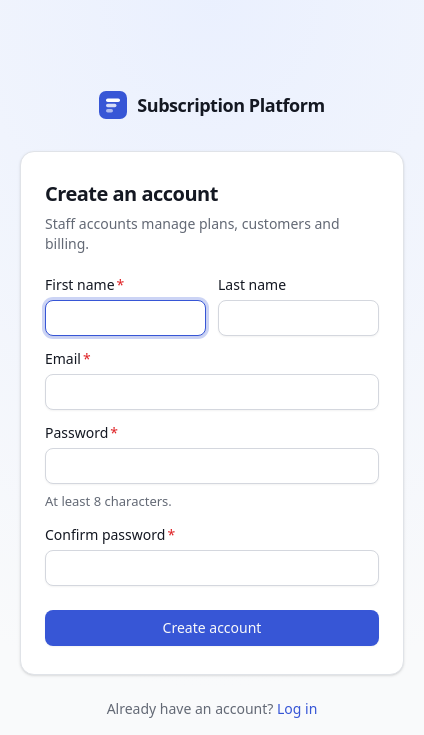
auth › after signup, goes to the login page with the email filled in instead of logging in
Type "Asha" into the field labelled "First name*" at (126, 318), box top-left (45, 300), bottom-right (206, 336)
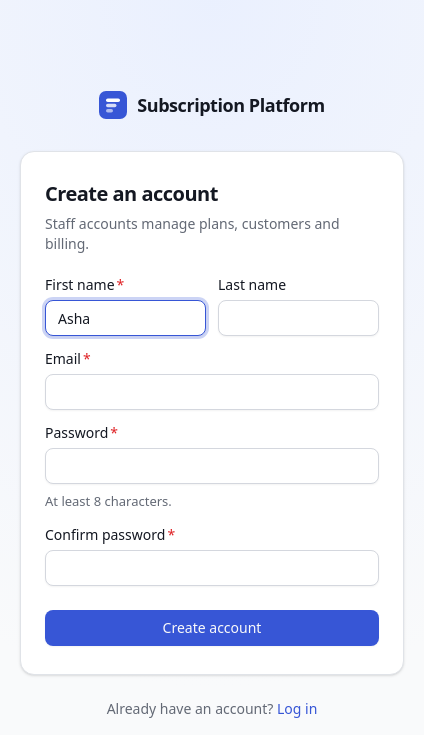
Type "asha@example.com" into the field labelled "Email*" at (212, 392), box top-left (45, 374), bottom-right (379, 410)
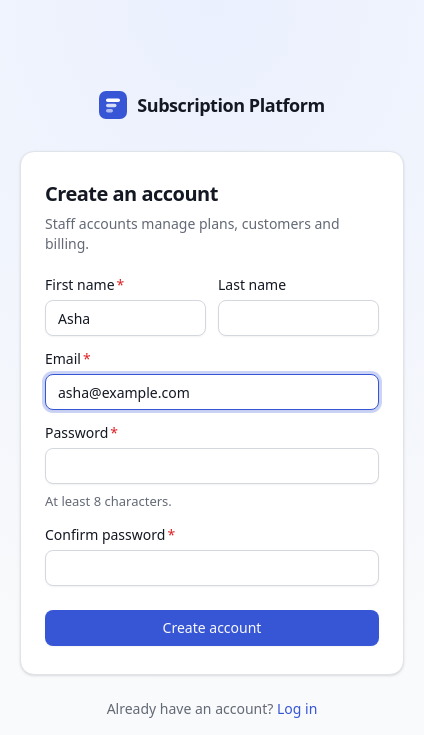
Type "long-enough" into the password field labelled "Password*" at (212, 466), box top-left (45, 448), bottom-right (379, 484)
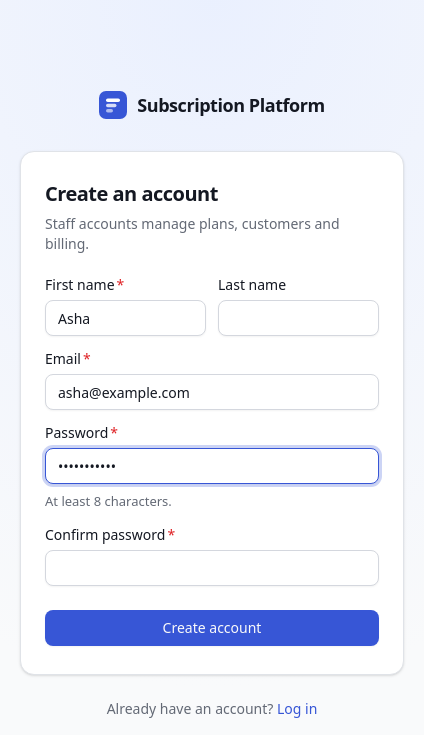
Type "long-enough" into the password field labelled "Confirm password*" at (212, 568), box top-left (45, 550), bottom-right (379, 586)
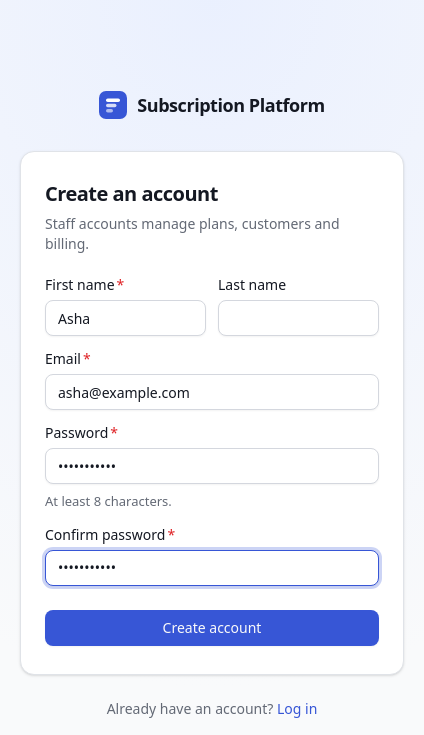
Click the button "Create account" at (212, 628), box top-left (45, 610), bottom-right (379, 646)
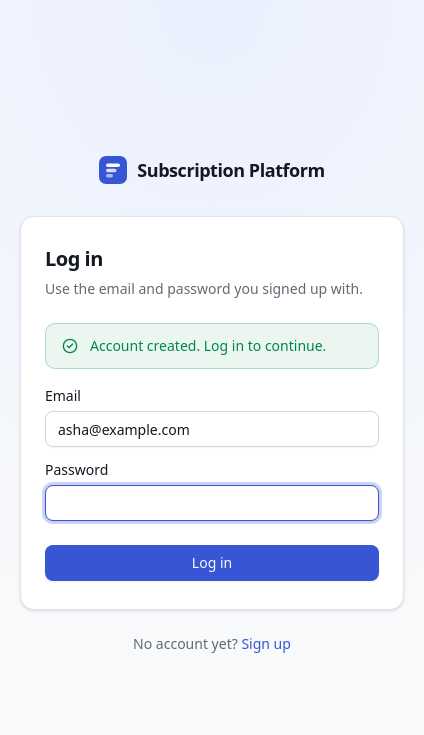
Now the field labelled "Email" holds "asha@example.com", box top-left (45, 411), bottom-right (379, 447)
Now the text "Account created. Log in to continue." is shown, box top-left (90, 336), bottom-right (326, 356)
